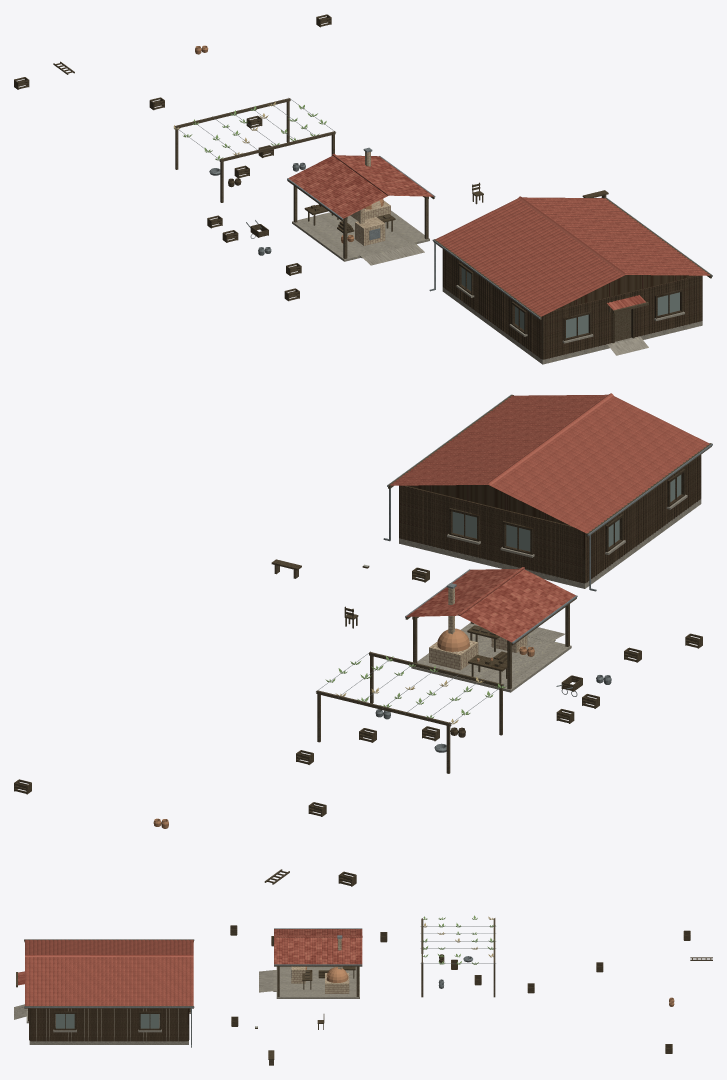
3 renders of one model, top to bottom at view 1: azimuth 30°, elevation 25°; view 2: azimuth 150°, elevation 25°; view 3: azimuth 270°, elevation 25°, orthographic. The views are drawn at different scales.
Parts seen in each view (by area): view 1: H14_TELHAS, H14_FACHADA, H14_RANCHO_FORNO_COBERTURA, H14_MATA_JUNTAS, H14_LATERAIS, H14_RANCHO_FORNO_BASE, H14_OITOES, H14_FUNDACAO, H14_VIDROS_RECUADOS, H14_CAIXILHOS, H14_PARREIRAL_VIGAS, H14-R02-OBJ-06_BASE (+4 smaller); view 2: H14_TELHAS, H14_FUNDOS, H14_RANCHO_FORNO_COBERTURA, H14_MATA_JUNTAS, H14_LATERAIS, H14_RANCHO_FORNO_BASE, H14_OITOES, H14_FUNDACAO, H14_VIDROS_RECUADOS, H14_CAIXILHOS, H14_PARREIRAL_VIGAS, H14_RANCHO_FORNO_FORNO_BASE (+1 smaller); view 3: H14_TELHAS, H14_LATERAIS, H14_RANCHO_FORNO_COBERTURA, H14_MATA_JUNTAS, H14_RANCHO_FORNO_BASE, H14_FUNDACAO, H14_VIDROS_RECUADOS, H14_CALHA, H14_BEIRAIS, H14_CAIXILHOS, H14_PARREIRAL_ARAMES, H14_RANCHO_FORNO_FORNO_BASE (+6 smaller).
Part boxes in pixels (box(x1,y1,x2,y2)): H14_TELHAS: box(435, 197, 709, 316); H14_FACHADA: box(544, 275, 701, 359); H14_RANCHO_FORNO_COBERTURA: box(288, 155, 433, 218); H14_MATA_JUNTAS: box(443, 250, 700, 359); H14_LATERAIS: box(443, 249, 541, 358); H14_RANCHO_FORNO_BASE: box(292, 210, 429, 261); H14_OITOES: box(555, 275, 695, 309); H14_FUNDACAO: box(442, 287, 702, 364); H14_VIDROS_RECUADOS: box(461, 267, 679, 338); H14_CAIXILHOS: box(458, 262, 683, 340); H14_PARREIRAL_VIGAS: box(174, 98, 335, 162); H14-R02-OBJ-06_BASE: box(355, 217, 385, 245); H14_TELHAS: box(390, 394, 709, 533); H14_FUNDOS: box(400, 485, 583, 582); H14_RANCHO_FORNO_COBERTURA: box(406, 568, 575, 642); H14_MATA_JUNTAS: box(401, 455, 700, 582); H14_LATERAIS: box(586, 455, 700, 582); H14_RANCHO_FORNO_BASE: box(411, 623, 571, 692); H14_OITOES: box(407, 485, 569, 525); H14_FUNDACAO: box(399, 499, 701, 588); H14_VIDROS_RECUADOS: box(452, 474, 681, 551); H14_CAIXILHOS: box(449, 469, 685, 554); H14_PARREIRAL_VIGAS: box(316, 652, 503, 726); H14_RANCHO_FORNO_FORNO_BASE: box(429, 640, 478, 670); H14_TELHAS: box(25, 939, 193, 1005); H14_LATERAIS: box(30, 1008, 187, 1041); H14_RANCHO_FORNO_COBERTURA: box(274, 929, 362, 964); H14_MATA_JUNTAS: box(29, 1008, 189, 1041); H14_RANCHO_FORNO_BASE: box(276, 966, 359, 998); H14_FUNDACAO: box(29, 1009, 188, 1044); H14_VIDROS_RECUADOS: box(56, 1014, 159, 1028); H14_CALHA: box(24, 939, 194, 1007); H14_BEIRAIS: box(24, 939, 193, 1008); H14_CAIXILHOS: box(28, 1008, 190, 1030); H14_PARREIRAL_ARAMES: box(420, 926, 495, 963); H14_RANCHO_FORNO_FORNO_BASE: box(325, 973, 349, 993).
Bounding box in the file's own units: 20.88 × 4.28 × 46.13.
14 materials, 9 textured.
